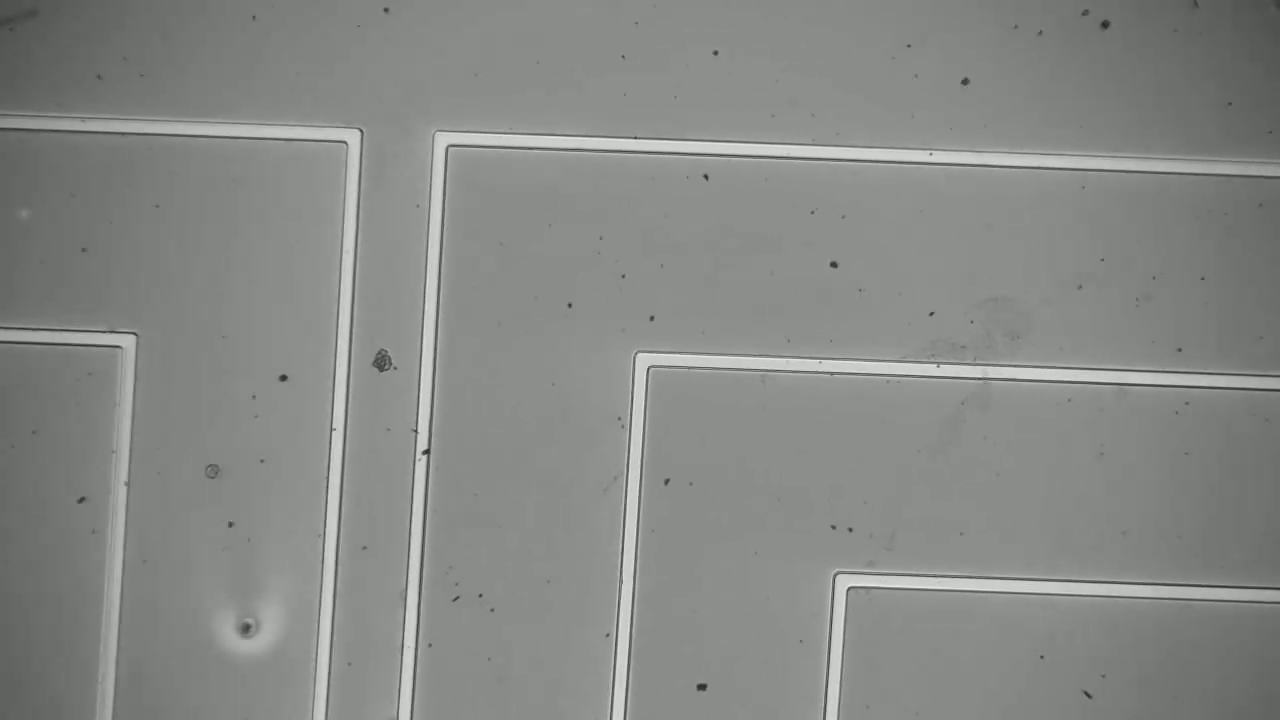stains_enbedded: (410, 443, 438, 462)
